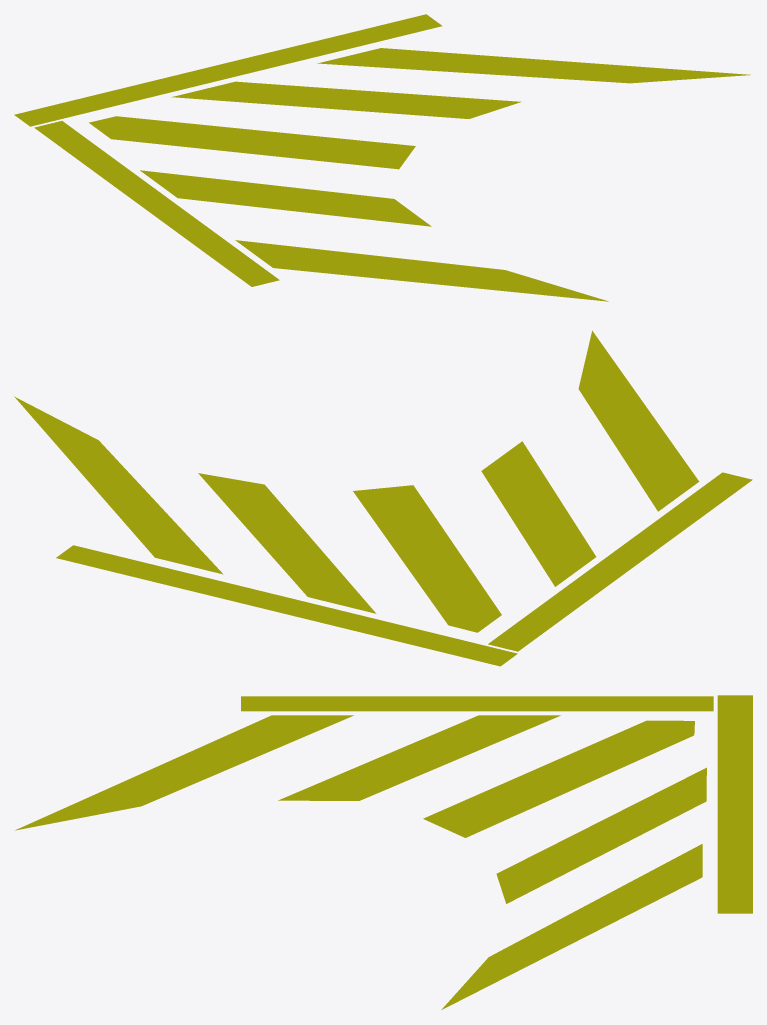
The model's file is Ground_decal_no_go_pit_2.FBX.
3 views of the same model, one above another, from view 1: azimuth 30°, elevation 25°; view 2: azimuth 150°, elevation 25°; view 3: azimuth 270°, elevation 25° (orthographic). The views are drawn at different scales.
Visible parts, largest first — view 1: Ground_no_go_hole_2; view 2: Ground_no_go_hole_2; view 3: Ground_no_go_hole_2.
Part boxes in pixels (left/top/right/bottom): Ground_no_go_hole_2: left=14, top=14, right=750, bottom=301; Ground_no_go_hole_2: left=14, top=330, right=752, bottom=666; Ground_no_go_hole_2: left=15, top=695, right=752, bottom=1009.
Size of the model in its own units: 284 by 2.49e-05 by 282.
